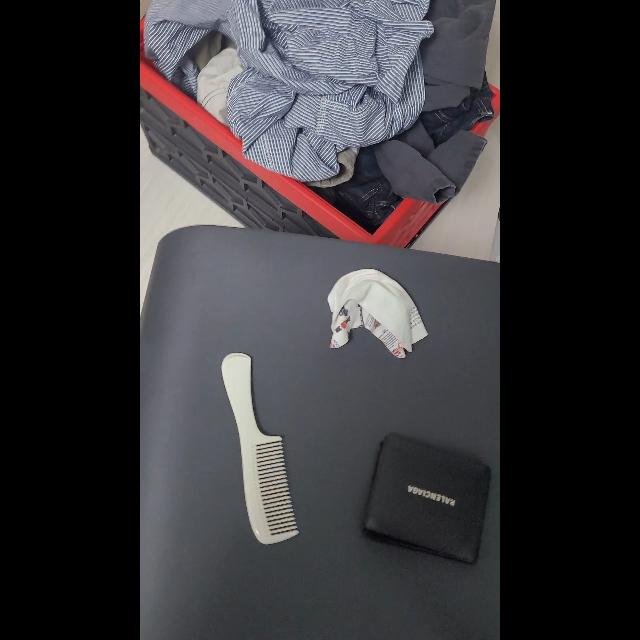COMB: (220, 350, 300, 546)
Glasses cleaning cloth: (324, 268, 428, 358)
WALLET: (361, 431, 493, 567)
